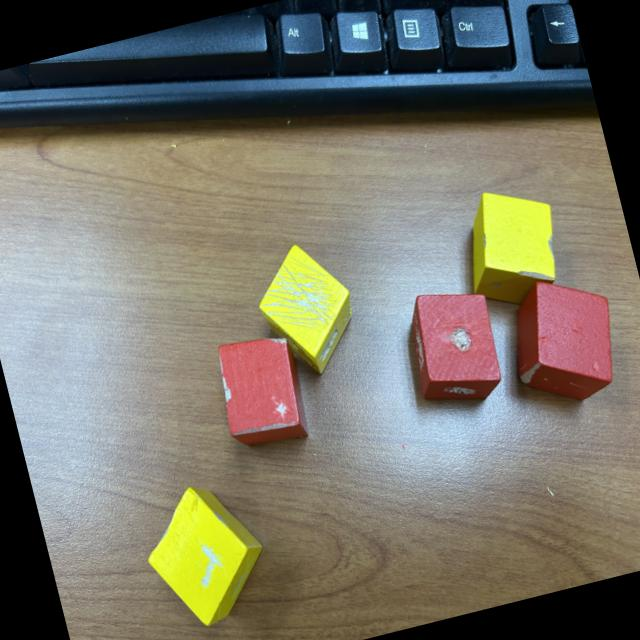broken: (130, 472, 282, 638), (496, 264, 630, 412), (245, 234, 368, 386), (449, 176, 571, 314), (398, 279, 510, 414), (207, 327, 315, 456)
